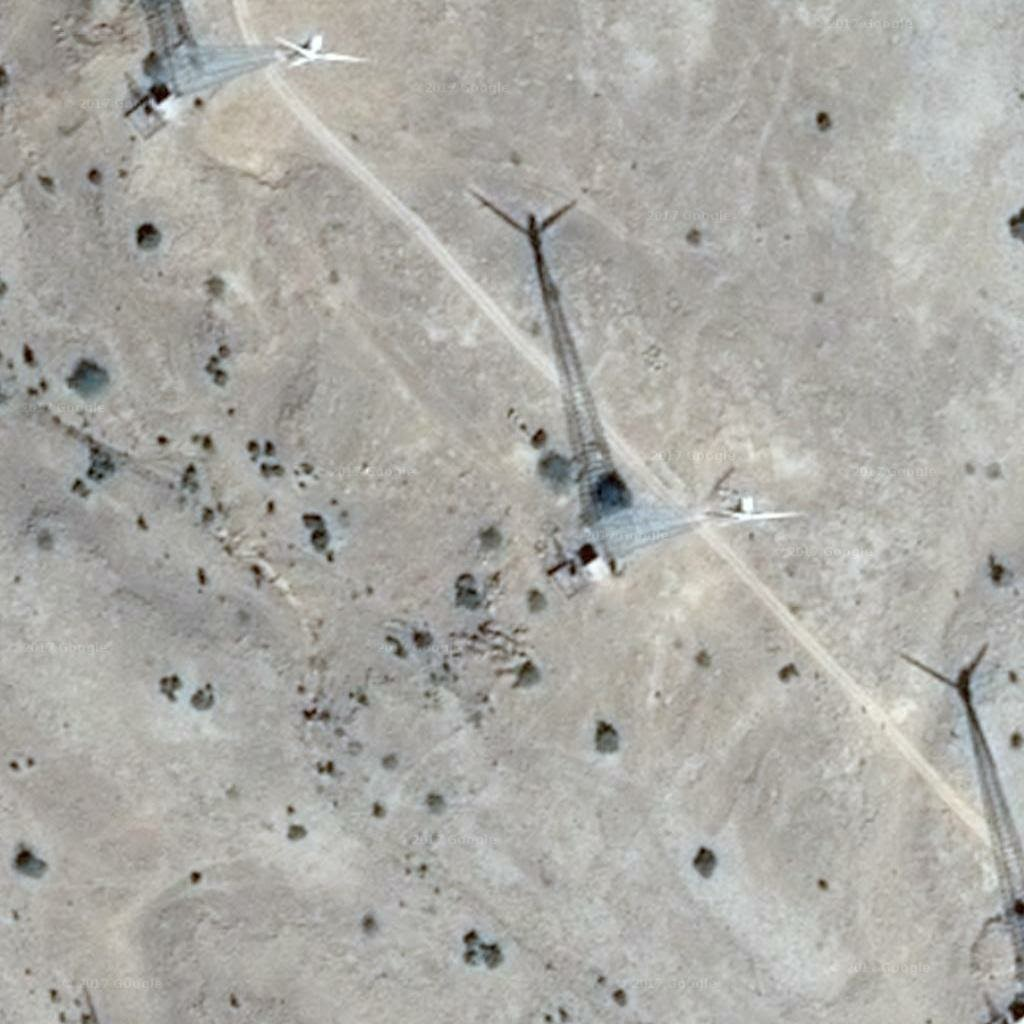Windmill: (472, 183, 662, 568)
